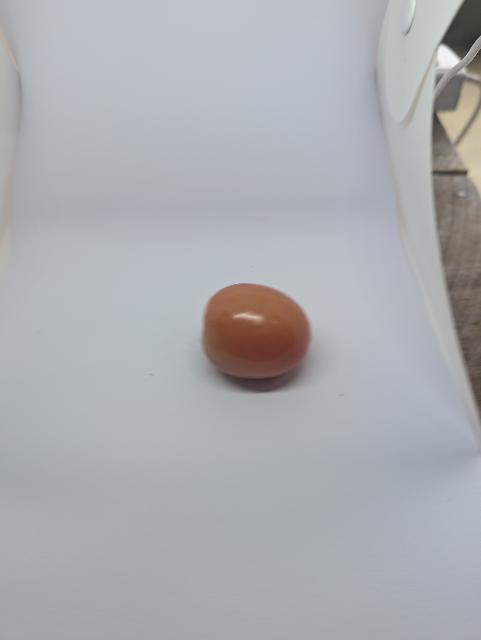red: (195, 277, 318, 387)
